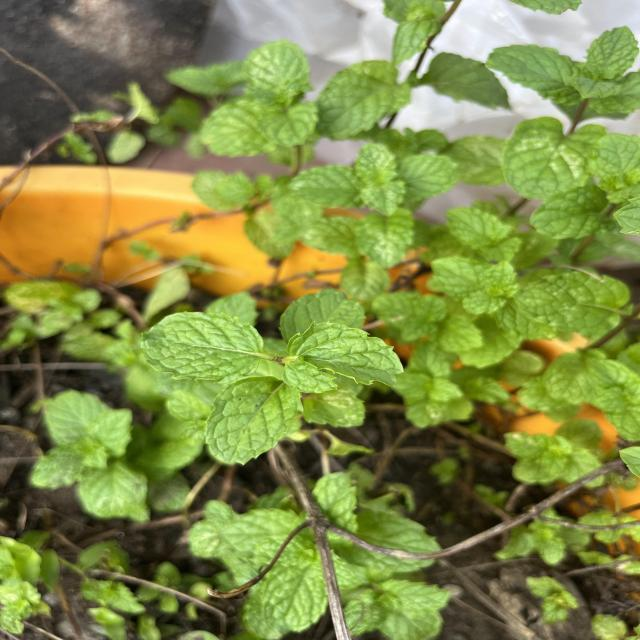Mentha spicata: (204, 375, 306, 467), (140, 310, 265, 384)
